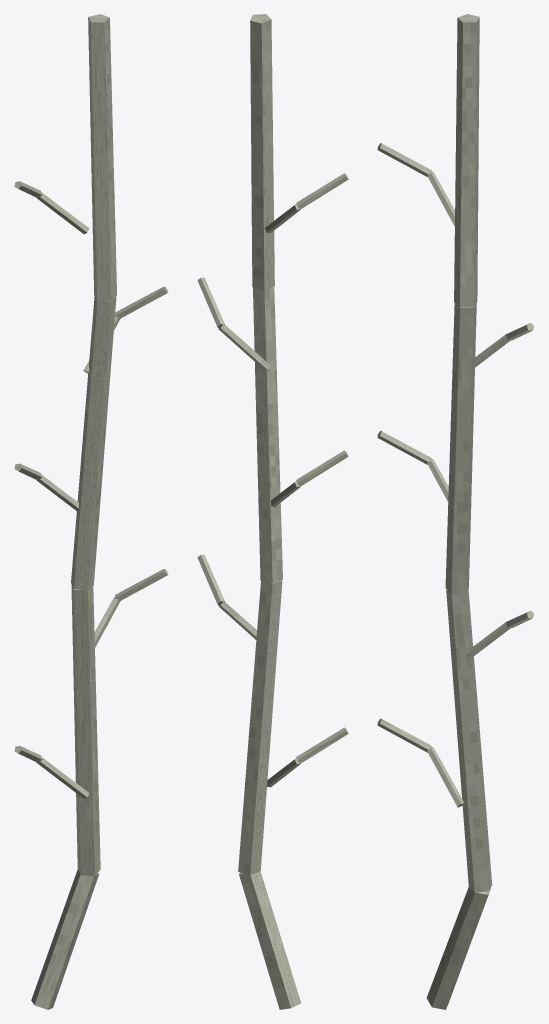
The model's file is f_web_up.glb.
The picture shows the model from 3 angles, left to right: view 1: azimuth 30°, elevation 25°; view 2: azimuth 150°, elevation 25°; view 3: azimuth 330°, elevation 25°; orthographic projection. The views are drawn at different scales.
Visible parts, largest first — view 1: block_suspended-climb-line-3, block_suspended-climb-line-4, block_suspended-climb-line-2, block_suspended-climb-line-1, block_side-fiber-1 (×4), block_side-fiber-2 (×2); view 2: block_suspended-climb-line-2, block_suspended-climb-line-3, block_suspended-climb-line-4, block_suspended-climb-line-1, block_side-fiber-2 (×5), block_side-fiber-1 (×2); view 3: block_suspended-climb-line-2, block_suspended-climb-line-4, block_suspended-climb-line-3, block_suspended-climb-line-1, block_side-fiber-2 (×3), block_side-fiber-1 (×3).
Boxes of the visible parts, x1,y1,x2,y2 form: block_suspended-climb-line-3: (71,296,116,590); block_suspended-climb-line-4: (88,14,116,300); block_suspended-climb-line-2: (71,584,100,875); block_suspended-climb-line-1: (31,869,99,1009); block_side-fiber-1 (×4): (36,192,120,798); block_side-fiber-2 (×2): (115,286,168,601); block_suspended-climb-line-2: (238,580,282,875); block_suspended-climb-line-3: (253,286,282,583); block_suspended-climb-line-4: (250,14,274,289); block_suspended-climb-line-1: (239,871,300,1009); block_side-fiber-2 (×5): (197,173,348,763); block_side-fiber-1 (×2): (218,324,270,639); block_suspended-climb-line-2: (446,588,492,892); block_suspended-climb-line-4: (454,14,479,307); block_suspended-climb-line-3: (445,302,476,594); block_suspended-climb-line-1: (426,887,491,1009); block_side-fiber-2 (×3): (377,143,431,752); block_side-fiber-1 (×3): (427,171,510,807).
Bounding box in the file's own units: 0.32 × 1.98 × 0.1049.
1 material, 1 textured.
